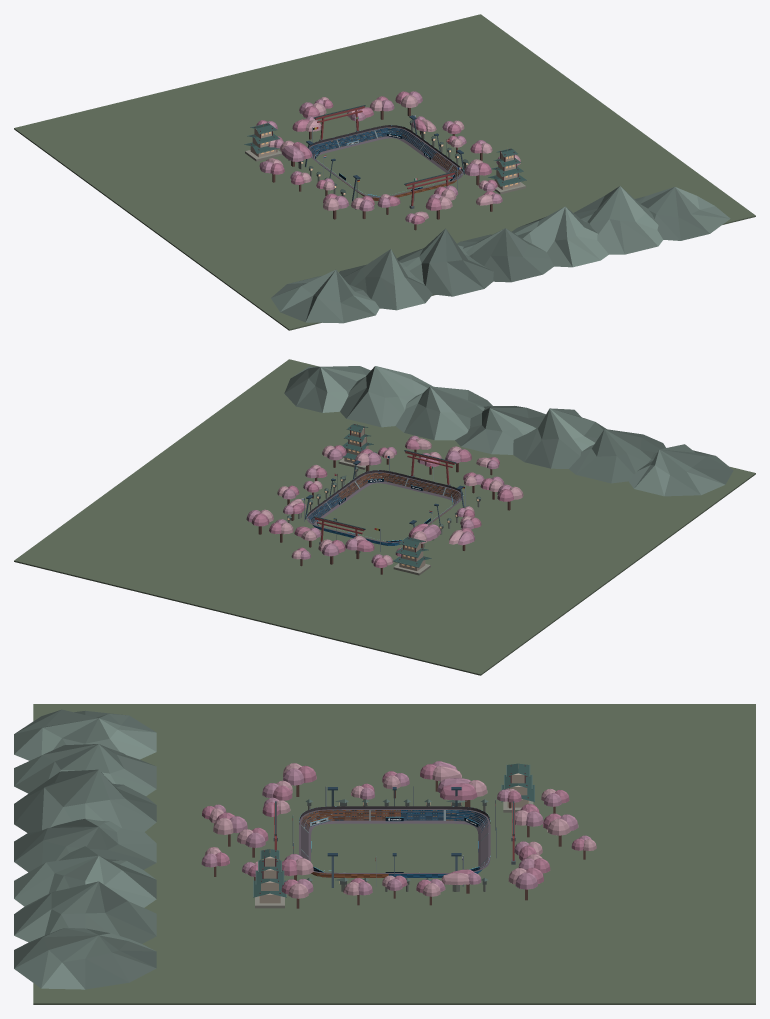
The model's file is sakura-v2.glb.
The picture shows the model from 3 angles, top to bottom: view 1: azimuth 30°, elevation 25°; view 2: azimuth 150°, elevation 25°; view 3: azimuth 270°, elevation 25°; orthographic projection. The views are drawn at different scales.
Parts seen in each view (by area): view 1: Arena architecture / sakura; view 2: Arena architecture / sakura; view 3: Arena architecture / sakura.
Boxes of the visible parts, x1,y1,x2,y2 form: Arena architecture / sakura: (14,14,755,330); Arena architecture / sakura: (14,359,755,675); Arena architecture / sakura: (14,704,755,1004).
Bounding box in the file's own units: 61300 × 5230 × 64282.
4 materials, 2 textured.
